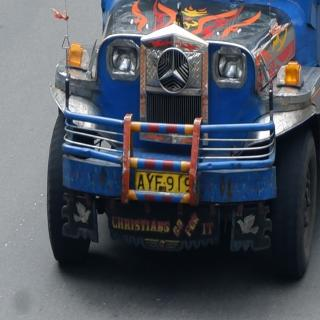license: (136, 172, 190, 194)
